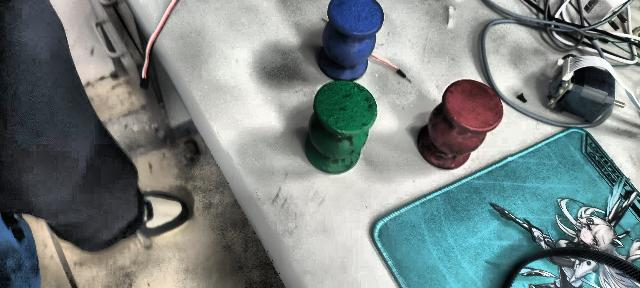blue: (318, 0, 384, 80)
green: (298, 82, 376, 177)
red: (414, 78, 500, 170)
